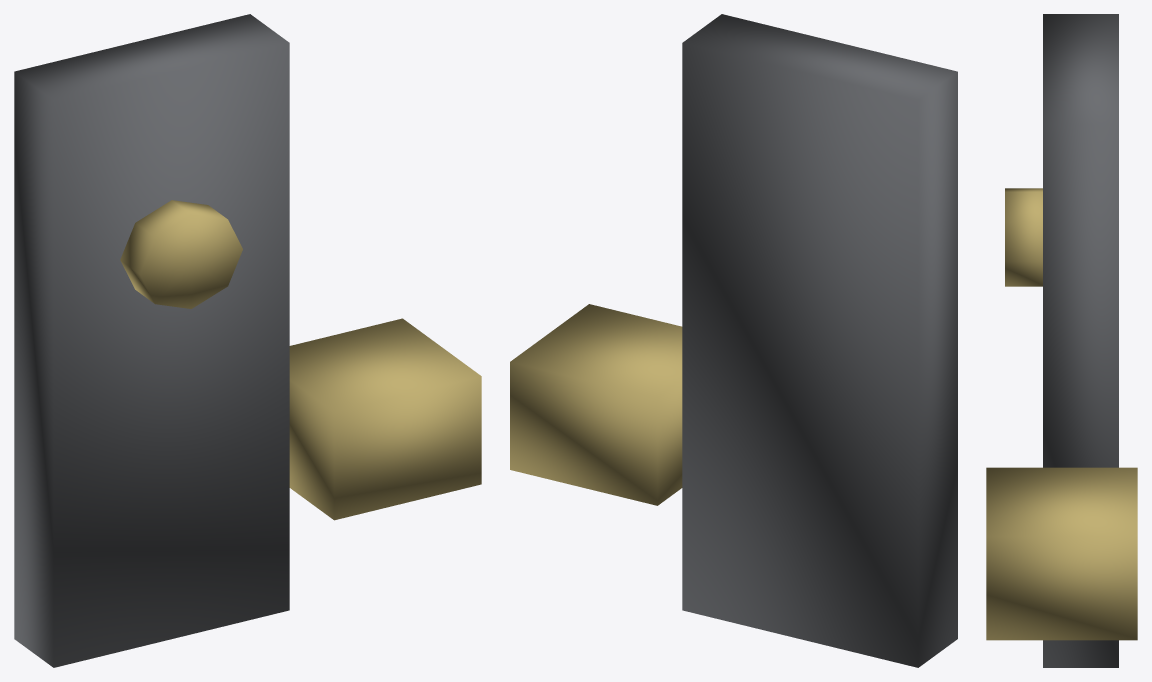
The model's file is elevator_call_08.glb.
3 renders of one model, left to right at view 1: azimuth 30°, elevation 25°; view 2: azimuth 150°, elevation 25°; view 3: azimuth 270°, elevation 25°, orthographic. The views are drawn at different scales.
Visible parts, largest first — view 1: world; view 2: world; view 3: world.
Boxes of the visible parts, x1,y1,x2,y2 form: world: [14, 14, 481, 667]; world: [510, 14, 957, 667]; world: [986, 14, 1137, 667].
Size of the model in its own units: 0.3024 by 0.4116 by 0.104.
